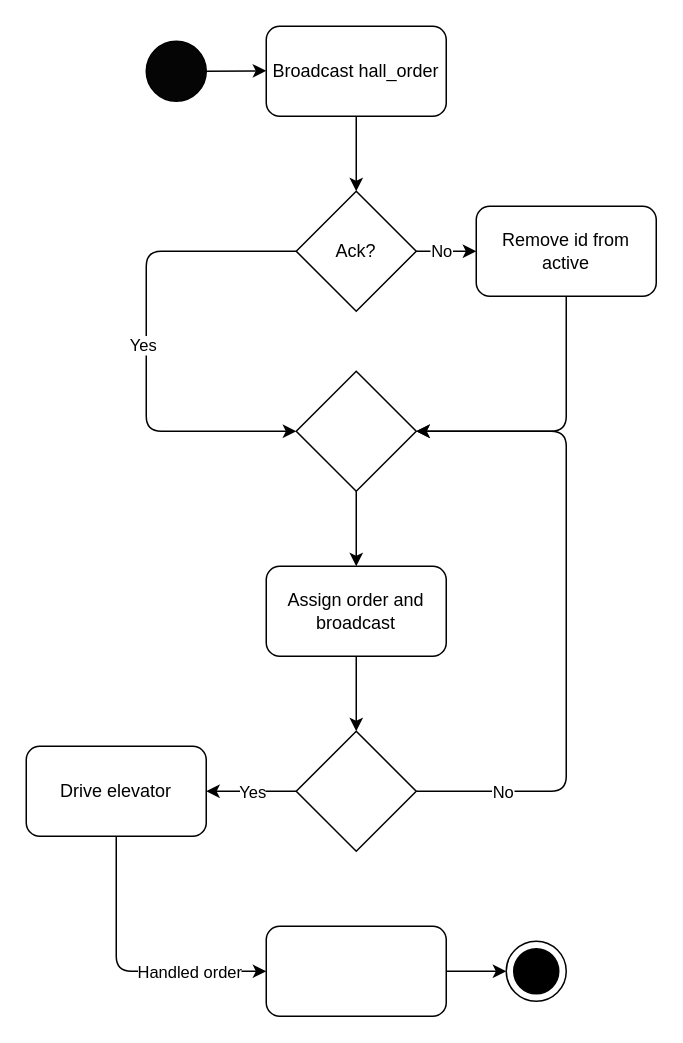
The diagram is 683 pixels wide and 1043 high, and some of its shapes have lost their labels. Each missing label, with the centre of its shape:
"All agree?" goes at (x=355, y=790).
"Broadcast completion" goes at (x=355, y=970).
